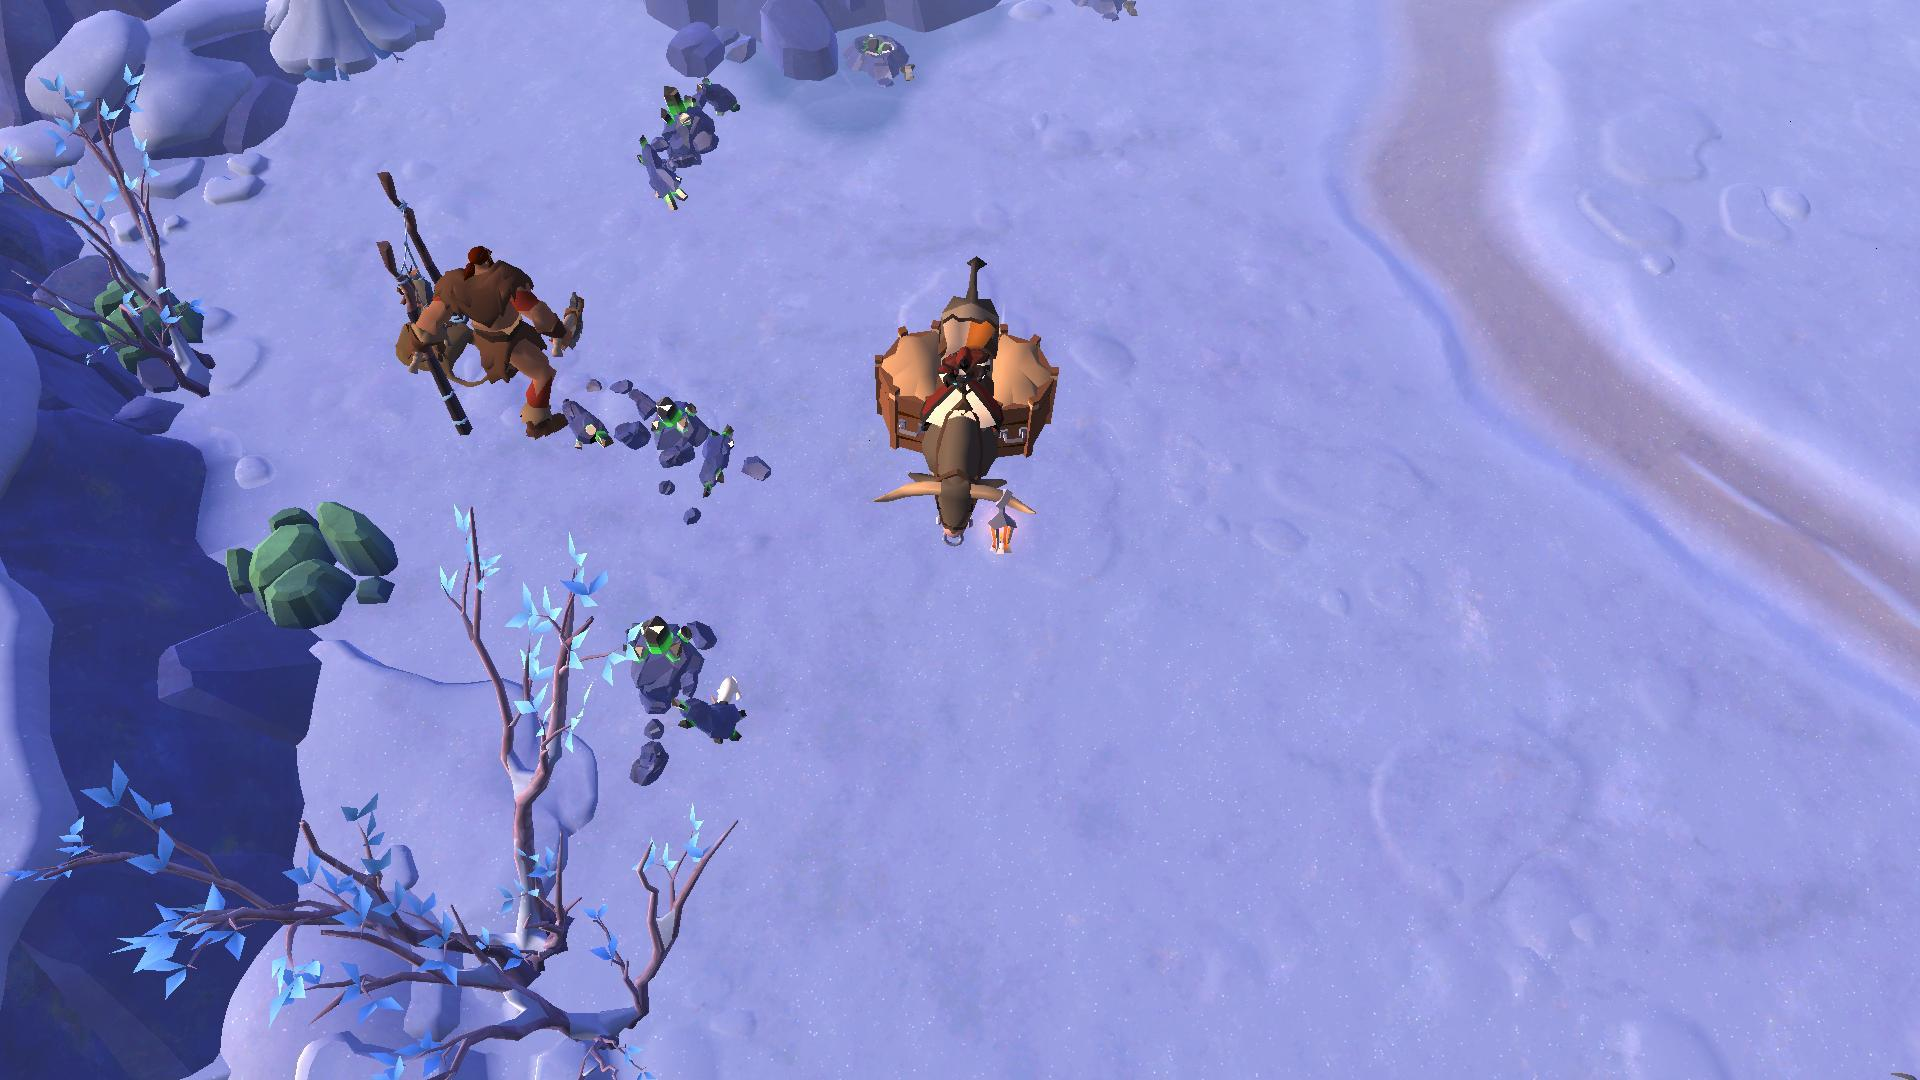enemy_factionKeeper: (394, 240, 593, 444)
rock_t3: (208, 489, 410, 633), (57, 269, 196, 372)
